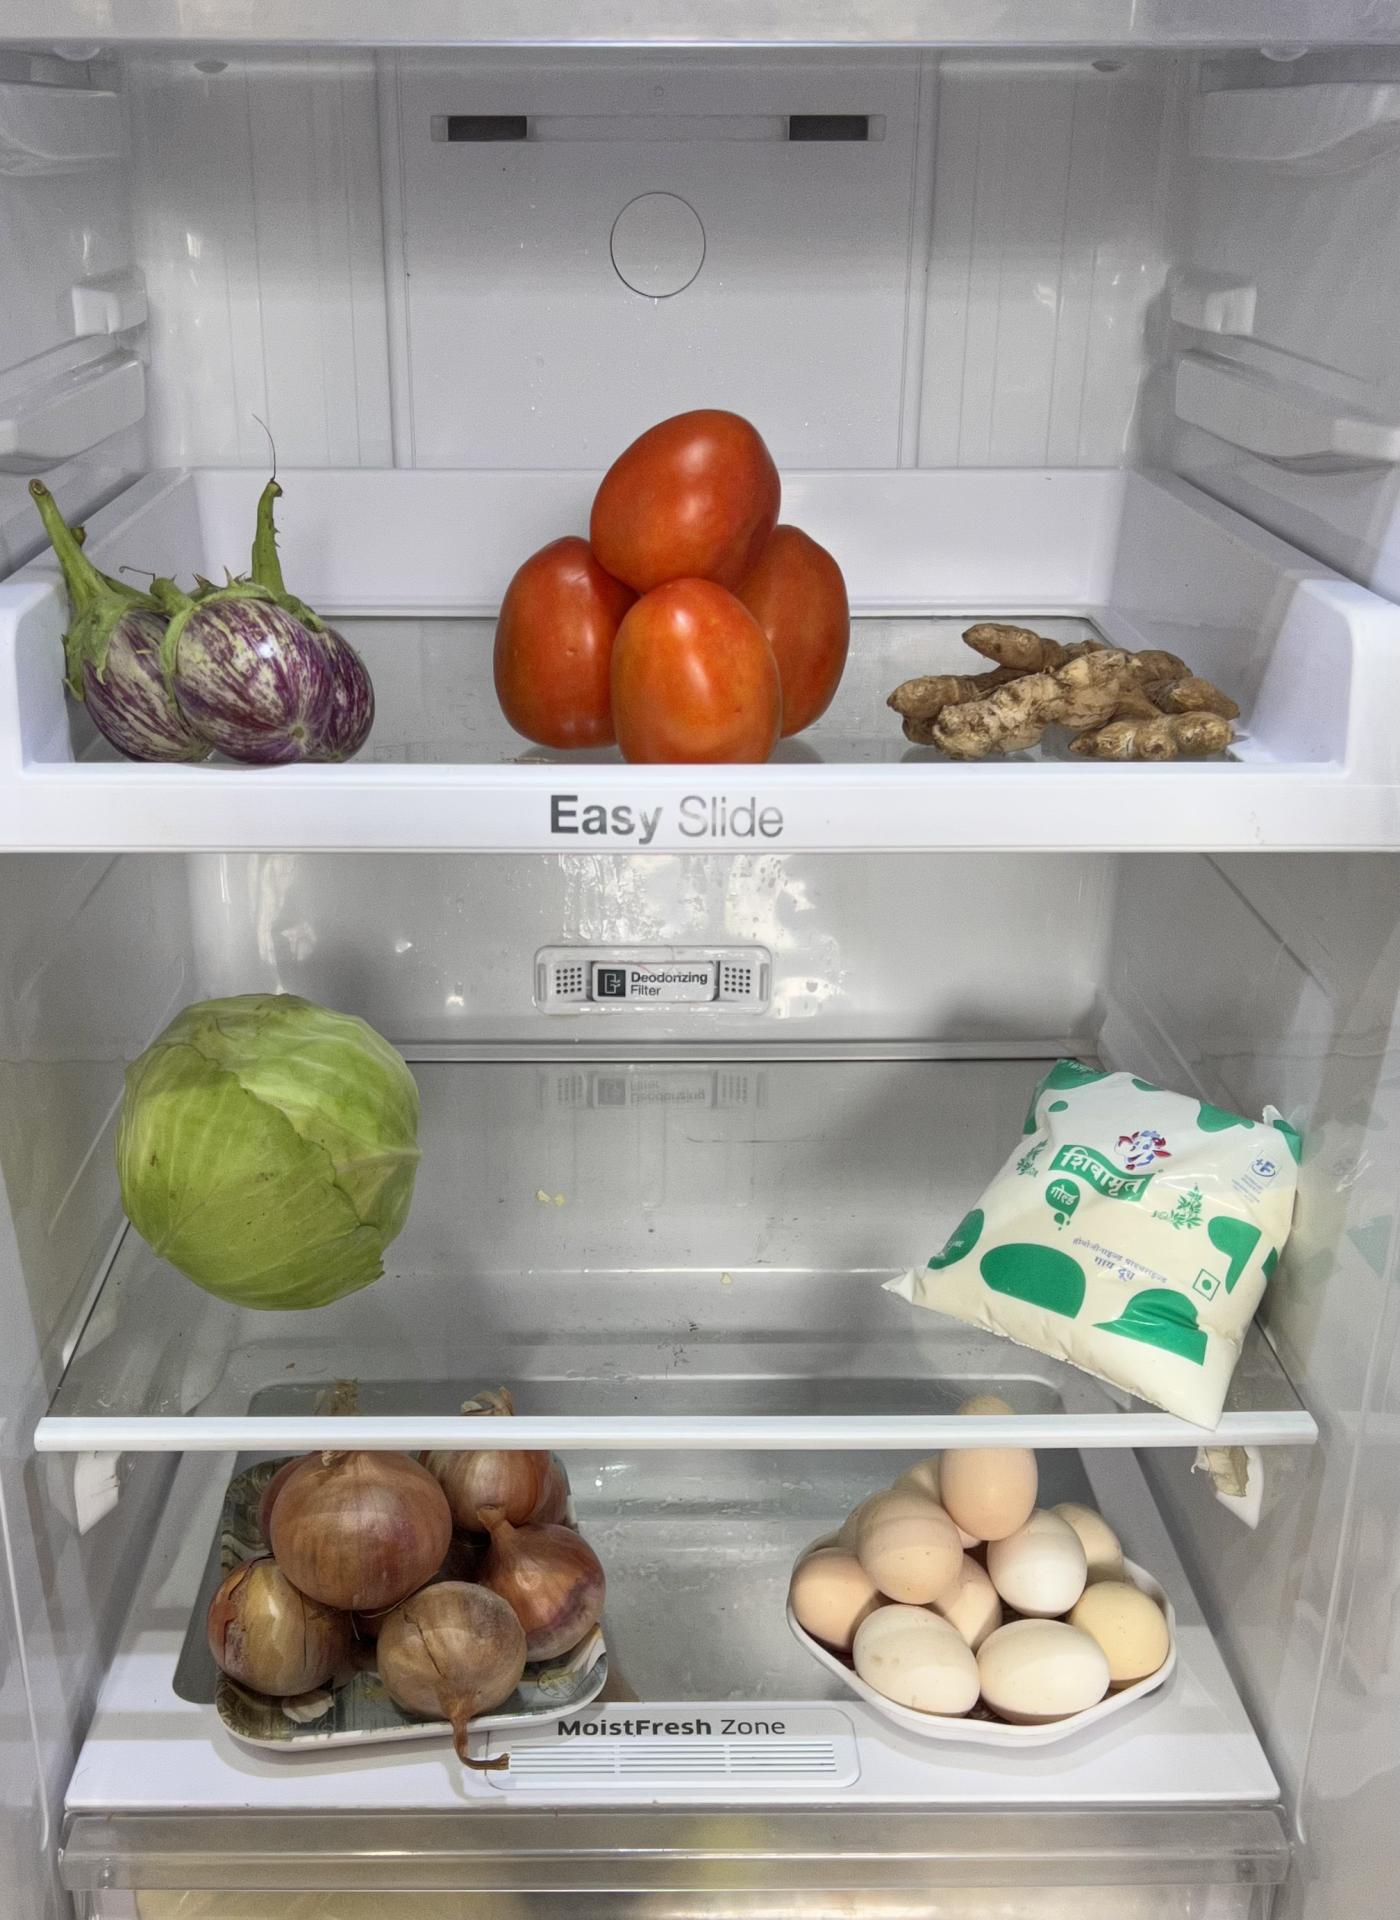cabbage: (109, 987, 428, 1303)
egg: (786, 1452, 1181, 1719)
ginger: (872, 608, 1243, 769)
milk: (887, 1048, 1309, 1412)
onion: (197, 1450, 611, 1713)
tomato: (498, 411, 854, 762)
